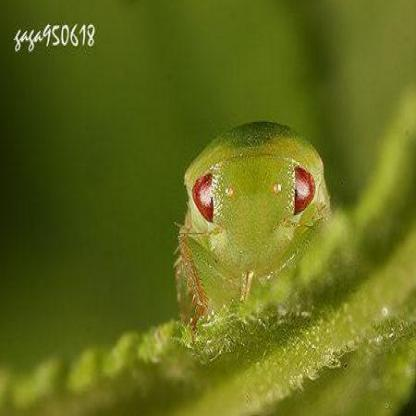green-leafhopper: (172, 115, 343, 324)
